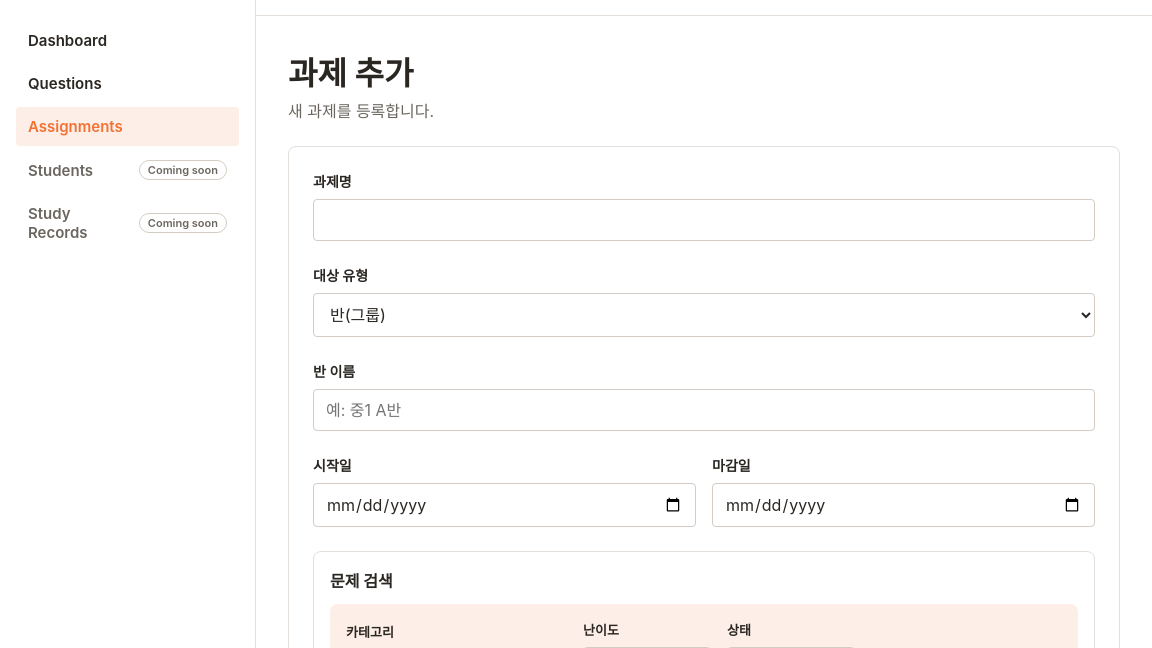
Test: AssignmentCreatePage › shows a date-range error when the start date is after the due date
Type "2026-08-10" into the date field labelled "시작일" at (504, 505), box [313,483,696,527]
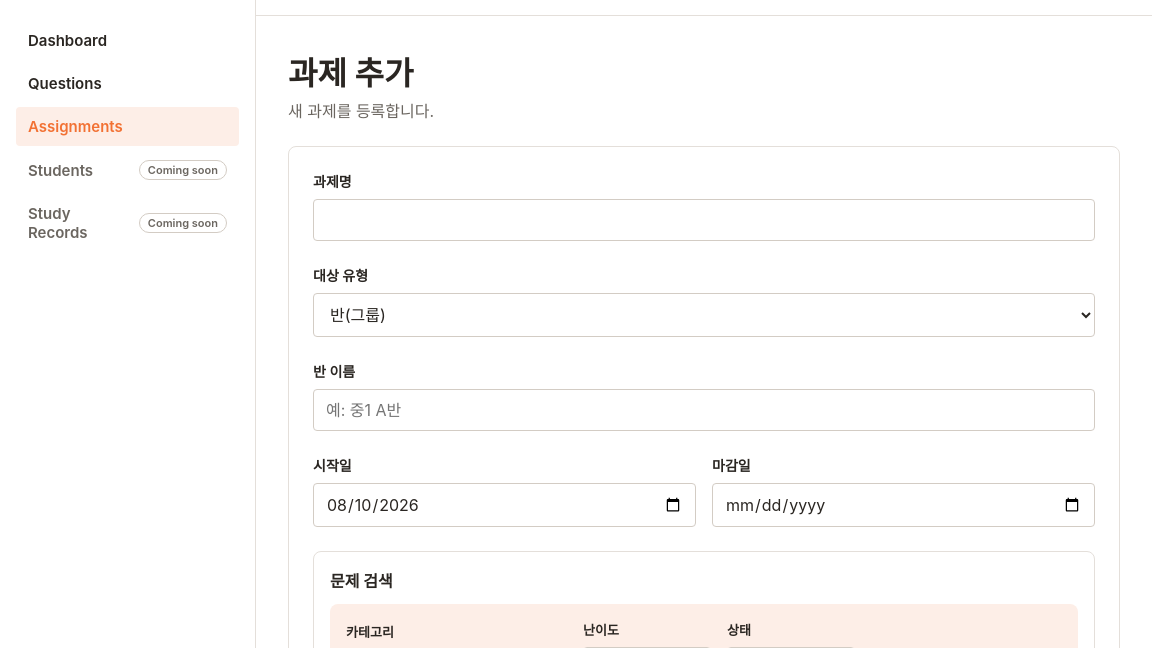
Type "2026-08-08" into the date field labelled "마감일" at (904, 505), box [712,483,1095,527]
(page scrolled)
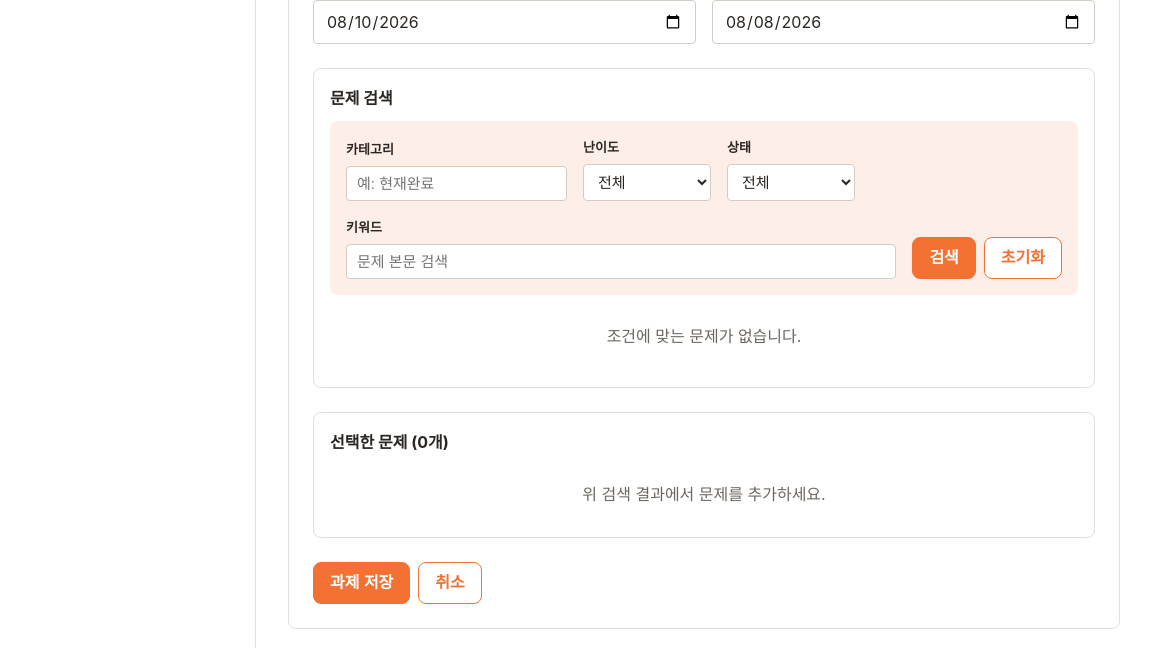
Click the button "과제 저장" at (362, 583), box [313,562,410,604]
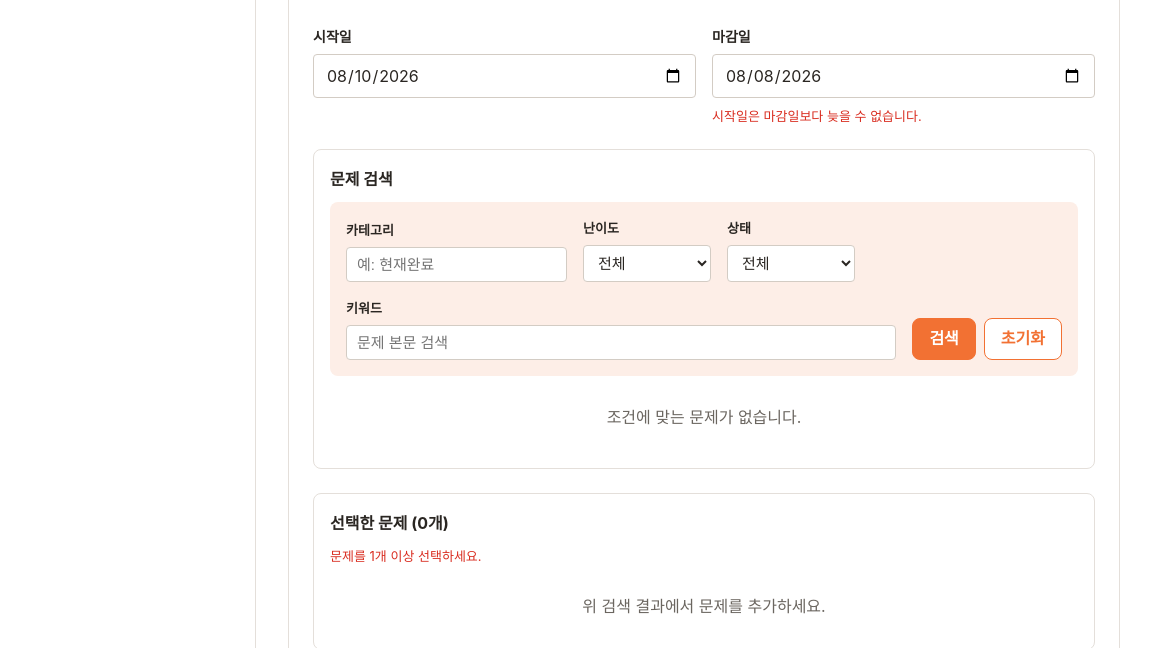
Result: the text "시작일은 마감일보다 늦을 수 없습니다." is shown at [712,108,922,124]
